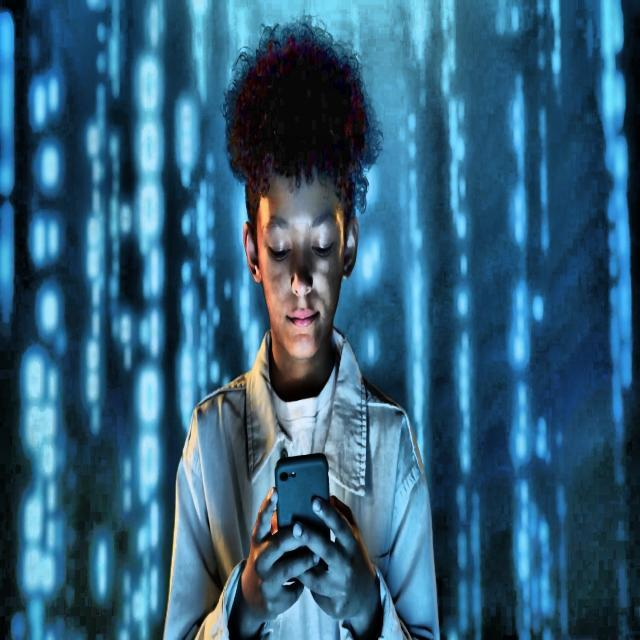Phone: (274, 452, 334, 560)
